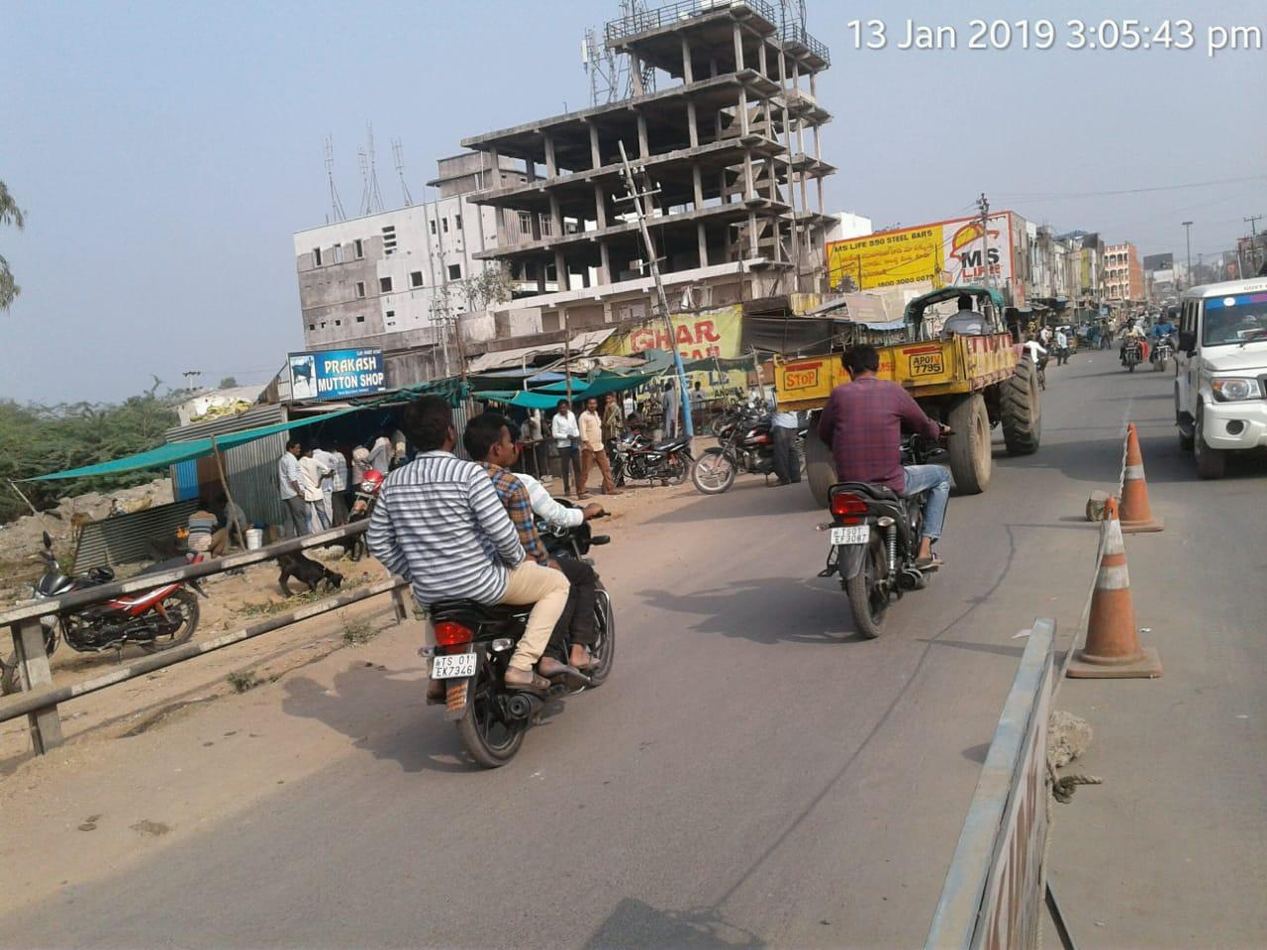plate: (432, 648, 483, 679), (825, 522, 874, 546)
